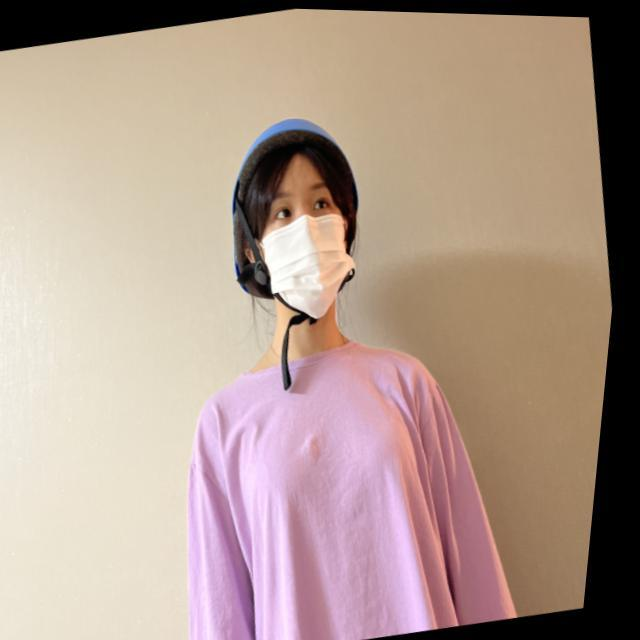Helmet: (228, 119, 362, 326)
